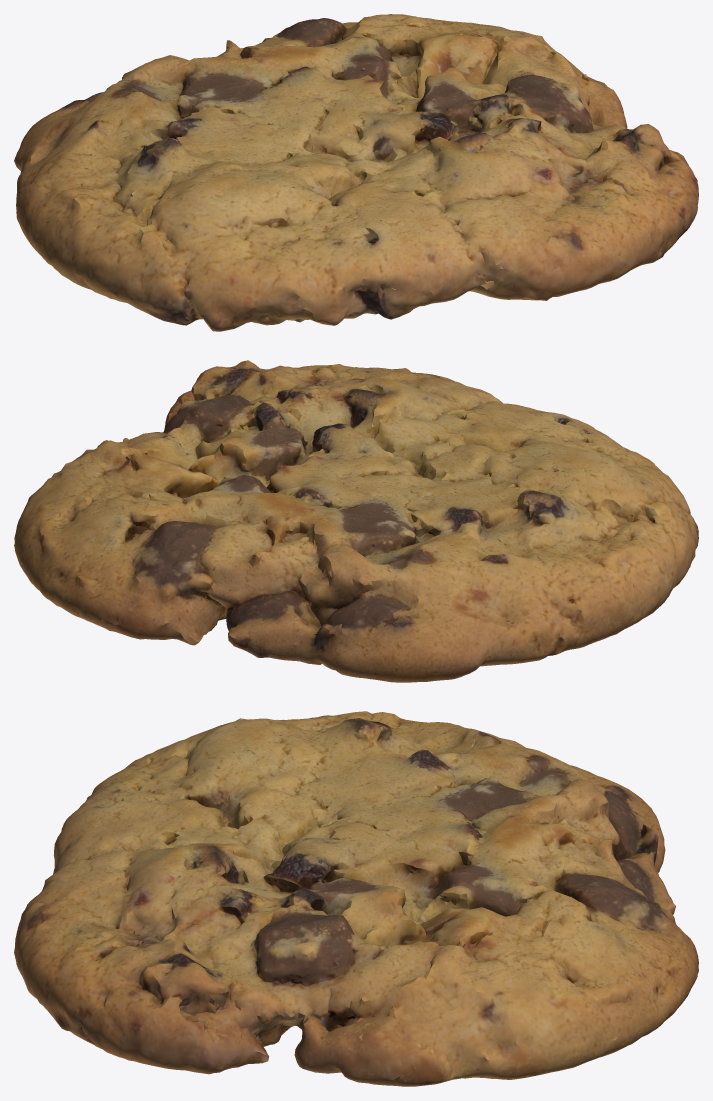
Rendered from 3DCookie002_HQ-1K-JPG.obj.
3 renders of one model, top to bottom at view 1: azimuth 30°, elevation 25°; view 2: azimuth 150°, elevation 25°; view 3: azimuth 270°, elevation 25°, orthographic. The views are drawn at different scales.
Parts seen in each view (by area): view 1: 3DCookie002_HQ-1K-JPG; view 2: 3DCookie002_HQ-1K-JPG; view 3: 3DCookie002_HQ-1K-JPG.
Boxes of the visible parts, x1=… form: 3DCookie002_HQ-1K-JPG: x1=14, y1=14, x2=698, y2=331; 3DCookie002_HQ-1K-JPG: x1=14, y1=360, x2=698, y2=682; 3DCookie002_HQ-1K-JPG: x1=14, y1=711, x2=698, y2=1086.
Size of the model in its own units: 0.1165 by 0.0205 by 0.1064.
Materials: 1 (1 with a texture image).
